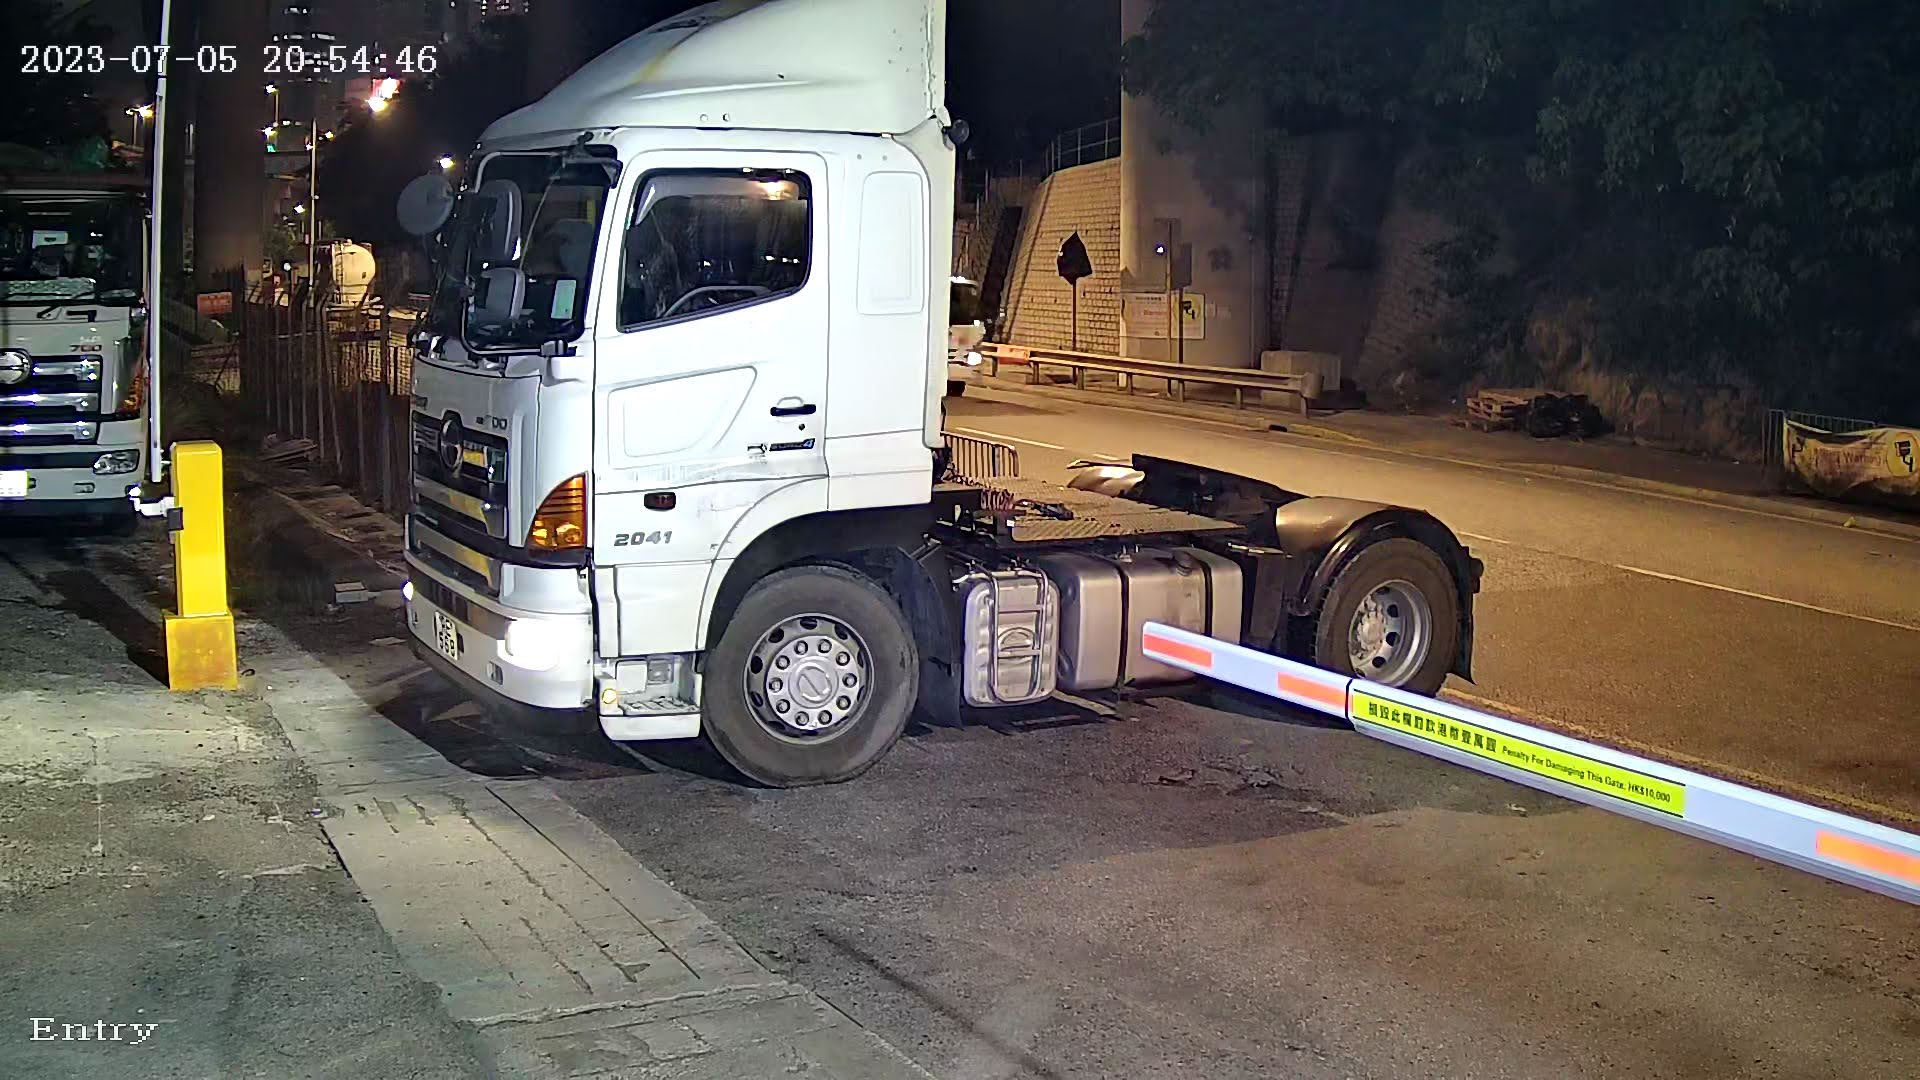tractor: (355, 7, 1536, 825)
